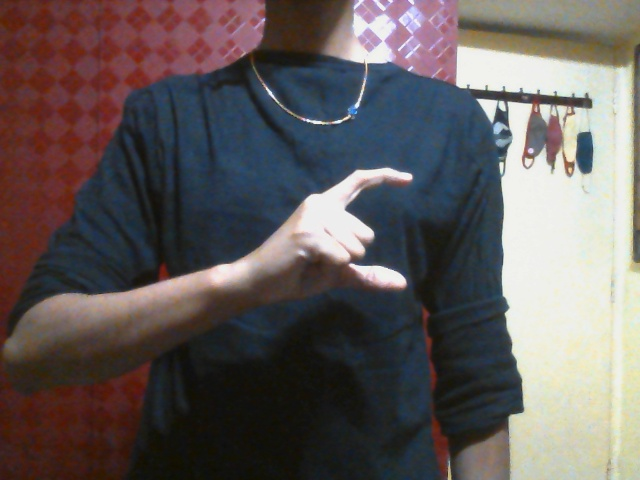C: (252, 166, 414, 306)
